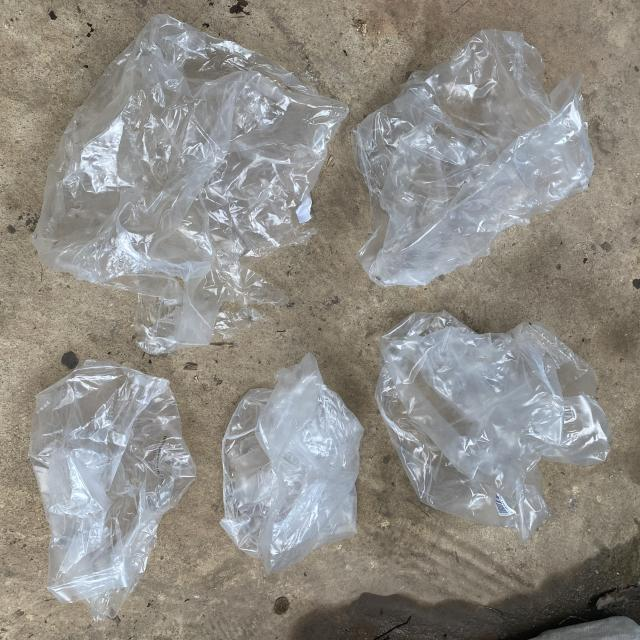Single-layer Plastic: (31, 15, 348, 355), (352, 30, 594, 285), (378, 313, 612, 541), (29, 360, 196, 621), (220, 354, 362, 574)
